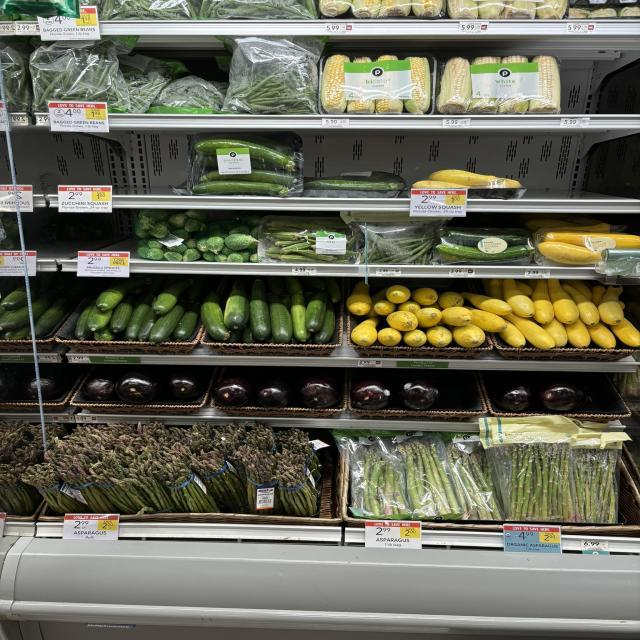Asparagus: (333, 430, 465, 520), (480, 416, 578, 522), (67, 422, 213, 466), (397, 432, 462, 519), (440, 432, 503, 521), (92, 445, 173, 514), (57, 454, 118, 514), (22, 462, 92, 514), (572, 449, 620, 524), (155, 456, 218, 512), (193, 451, 250, 512), (127, 450, 175, 512), (275, 450, 318, 516), (277, 429, 322, 480), (245, 450, 277, 514), (180, 422, 215, 454), (245, 422, 275, 452)
Corn: (437, 58, 472, 114), (528, 56, 560, 114), (320, 55, 350, 114), (403, 58, 432, 114)
Squash: (503, 312, 555, 350), (428, 170, 522, 188), (543, 232, 640, 249), (562, 284, 600, 325), (537, 241, 600, 265), (547, 279, 580, 324), (503, 279, 535, 318), (525, 218, 612, 232), (460, 292, 512, 315), (532, 279, 555, 324), (598, 285, 623, 325), (345, 281, 372, 315), (610, 318, 640, 348), (470, 309, 507, 332), (587, 322, 617, 349), (452, 324, 485, 348), (350, 318, 378, 346), (565, 319, 592, 348), (498, 321, 527, 348), (542, 319, 568, 347), (542, 222, 612, 232), (562, 279, 593, 300), (425, 325, 453, 348), (442, 306, 473, 326), (387, 311, 418, 331), (415, 308, 442, 328), (385, 285, 412, 304), (412, 180, 468, 189), (403, 329, 427, 348), (377, 328, 402, 346), (438, 291, 463, 309), (412, 288, 437, 305), (373, 300, 397, 316), (490, 279, 505, 301), (592, 285, 607, 306), (515, 280, 533, 296), (367, 308, 378, 317)
Zucchini: (435, 228, 533, 265), (193, 139, 295, 171), (303, 171, 407, 198), (285, 276, 310, 342), (437, 244, 533, 261), (200, 169, 295, 186), (97, 278, 145, 311), (192, 180, 290, 196), (200, 291, 230, 341), (123, 295, 155, 341), (148, 305, 185, 344), (152, 279, 192, 315), (223, 279, 250, 330), (250, 279, 272, 340), (268, 294, 293, 344), (303, 179, 403, 190), (172, 302, 200, 341), (305, 290, 328, 332), (313, 302, 335, 344), (75, 300, 95, 340), (110, 301, 133, 333), (87, 306, 113, 331), (138, 310, 158, 341), (93, 326, 115, 341)
